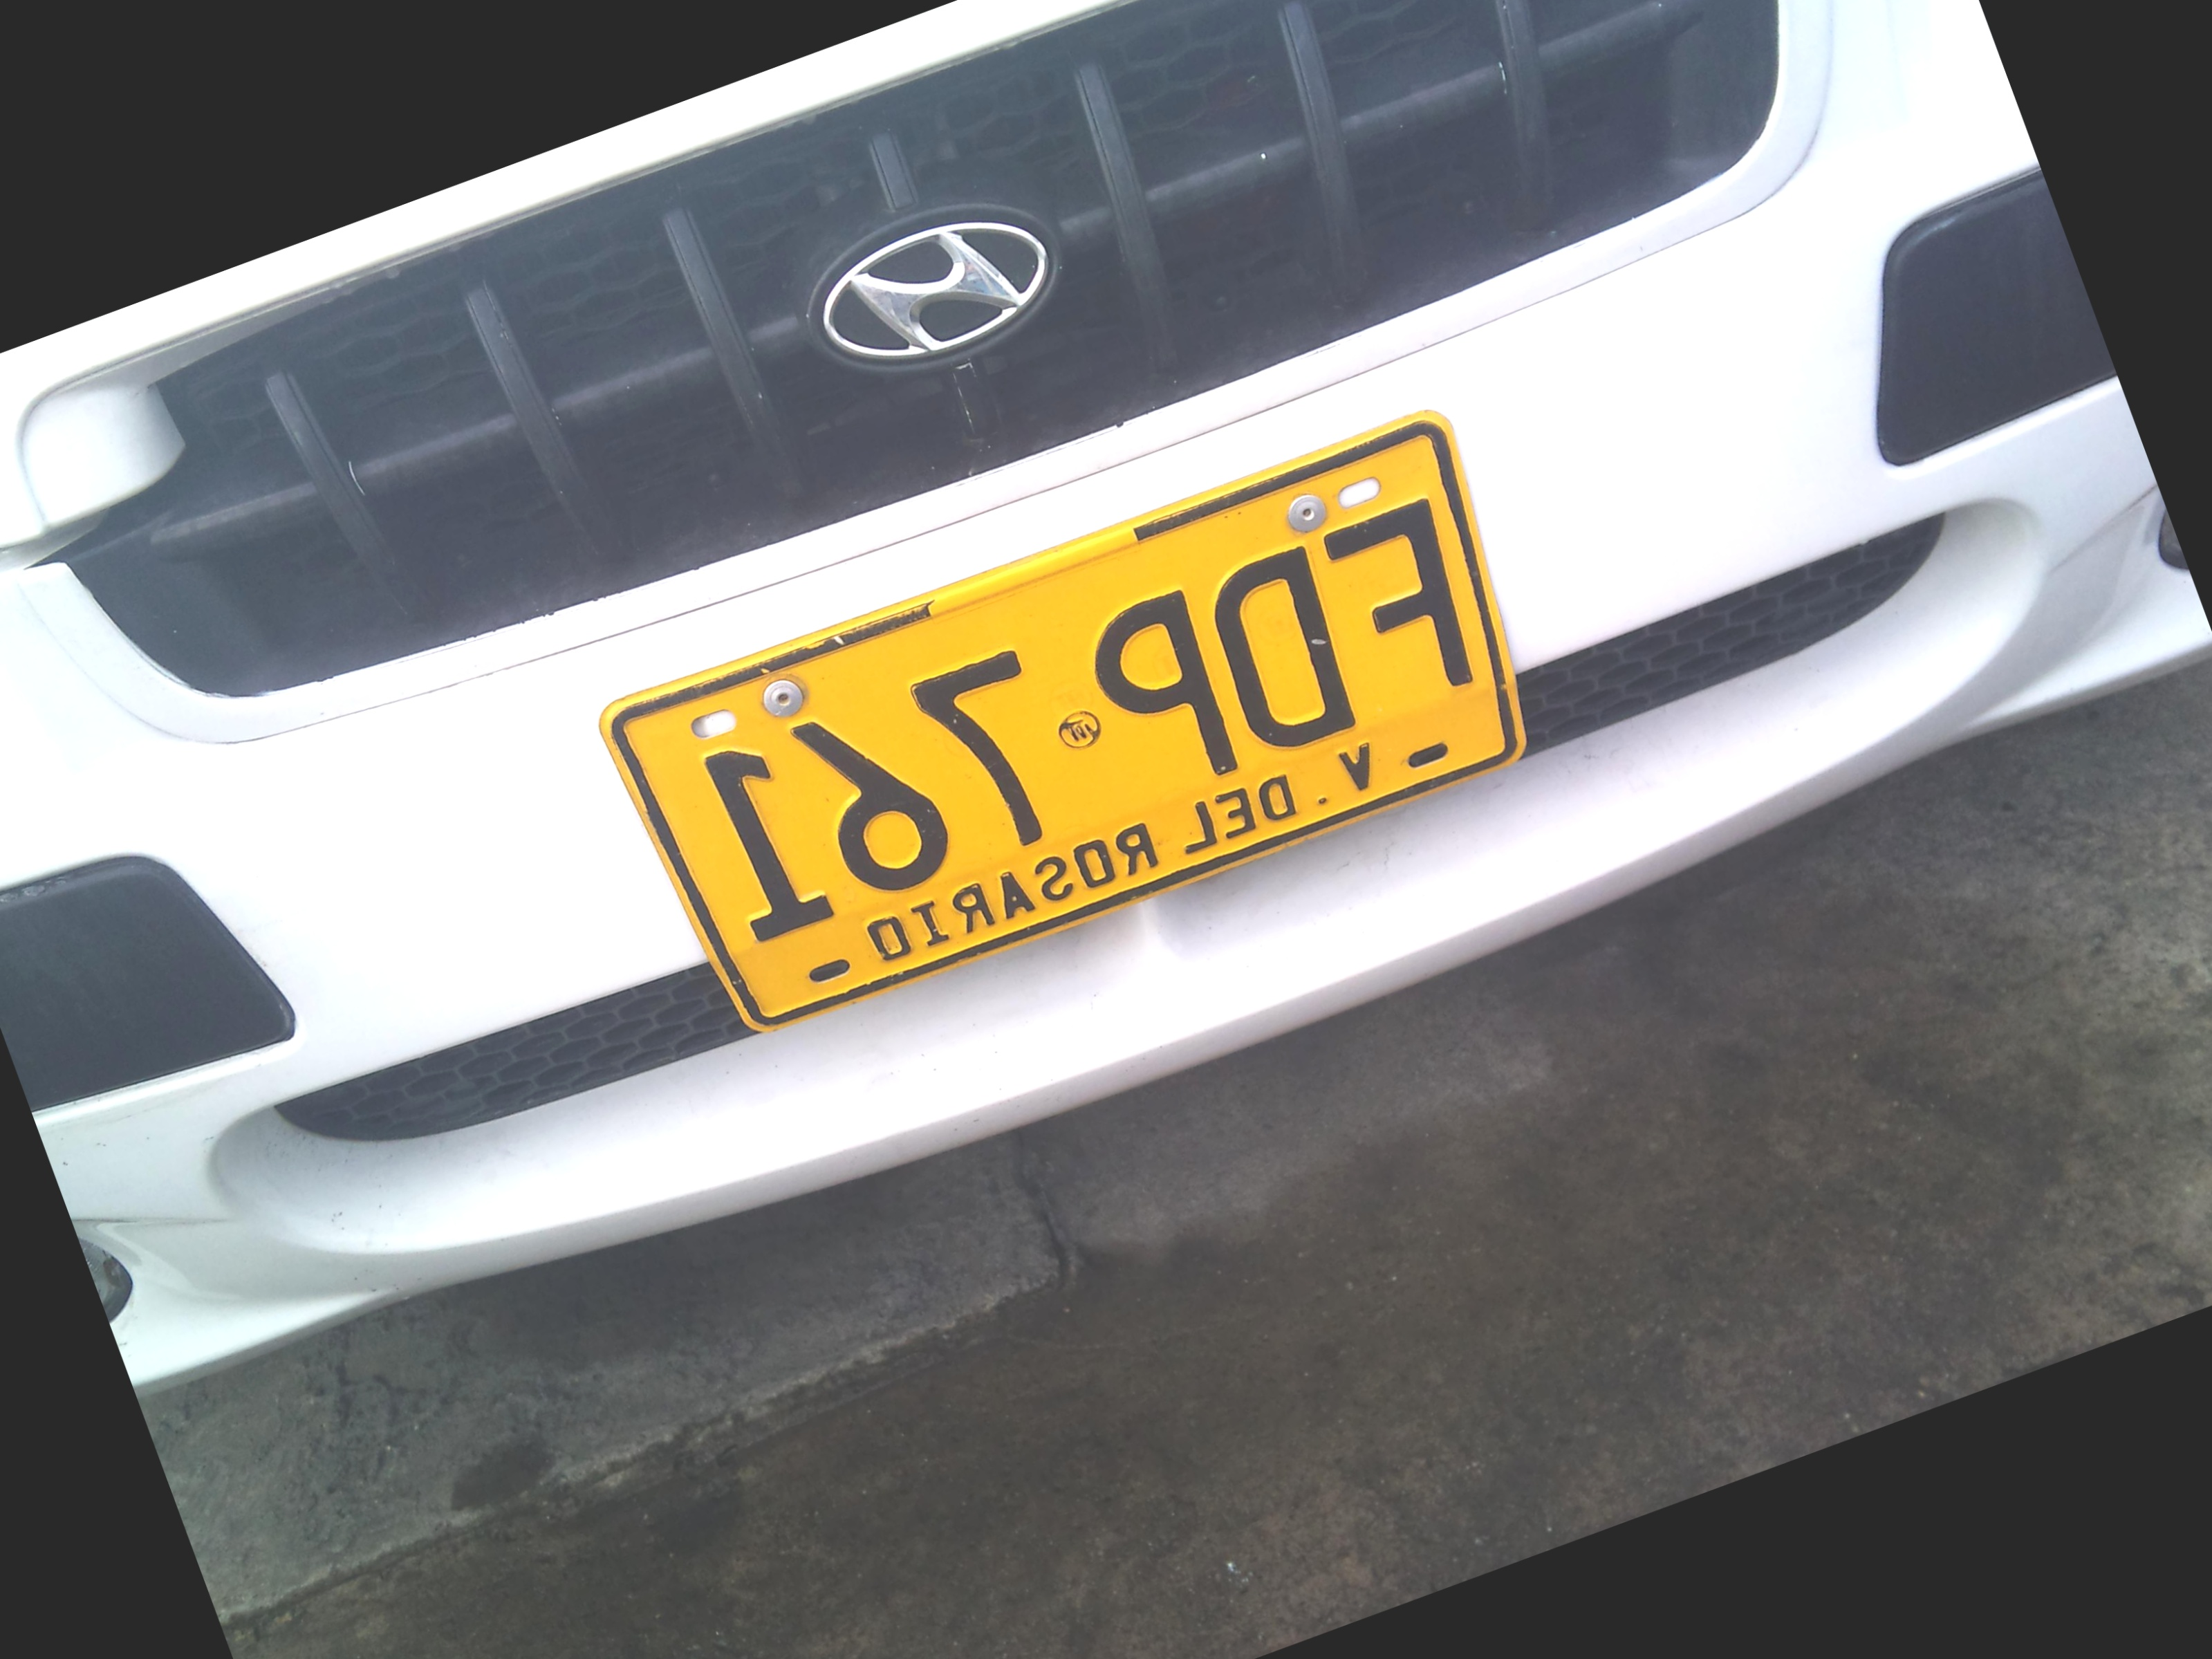placas: (584, 387, 1581, 1067)
